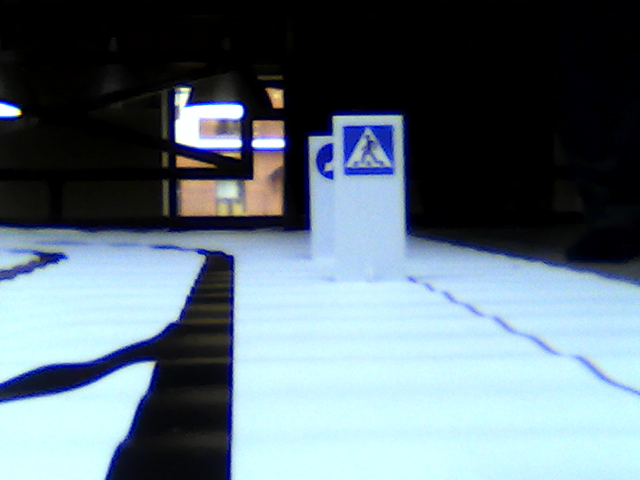pesh: (343, 125, 391, 175)
